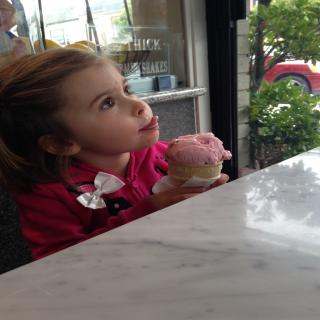Ice cream: (166, 132, 232, 164)
